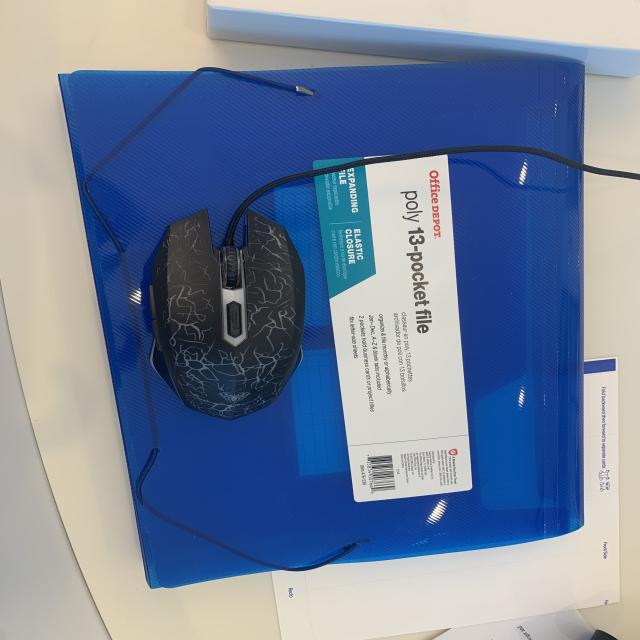Mouse: (136, 200, 314, 431)
